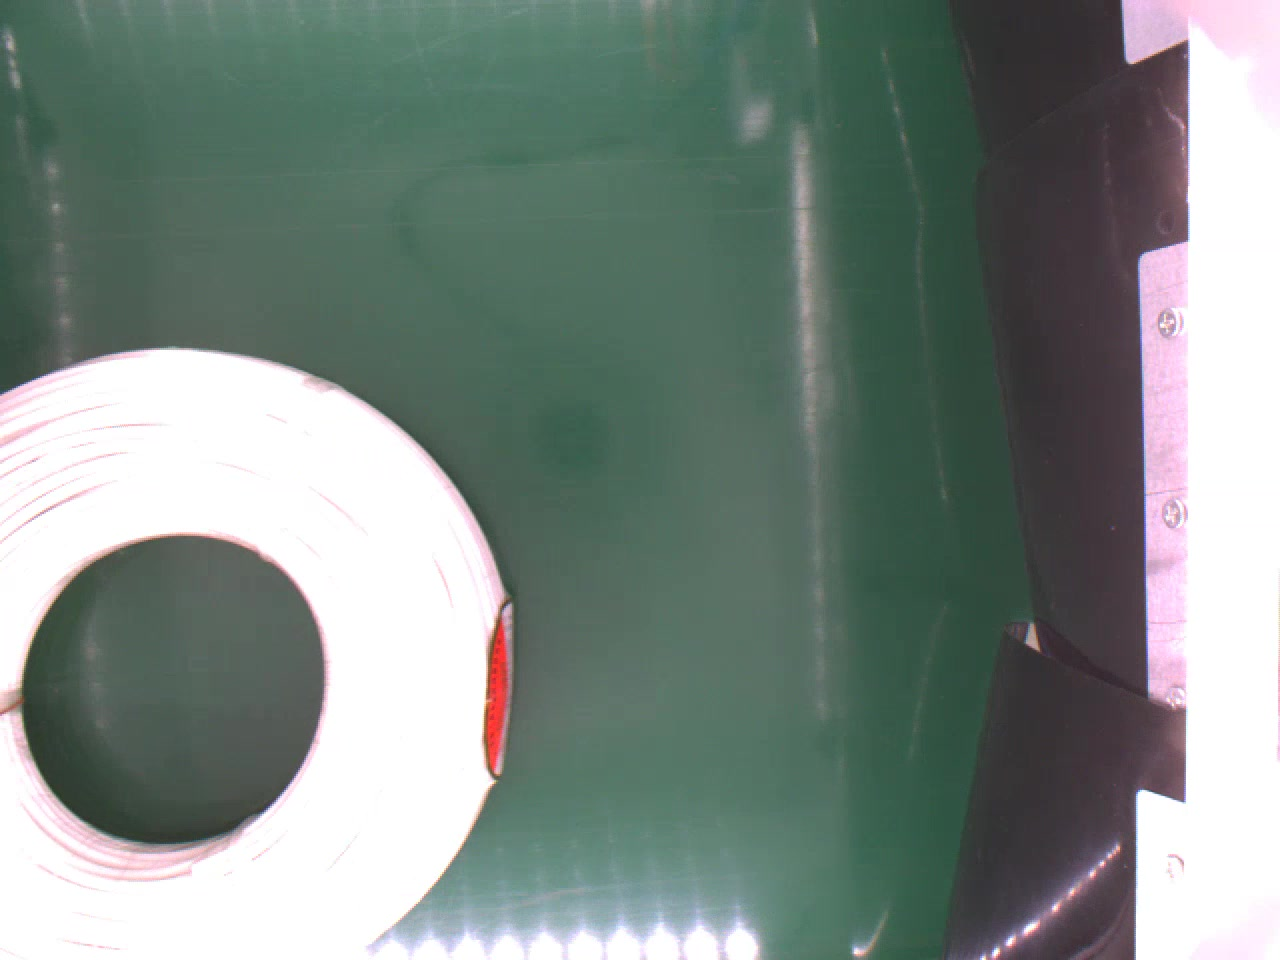white: (0, 341, 519, 960)
